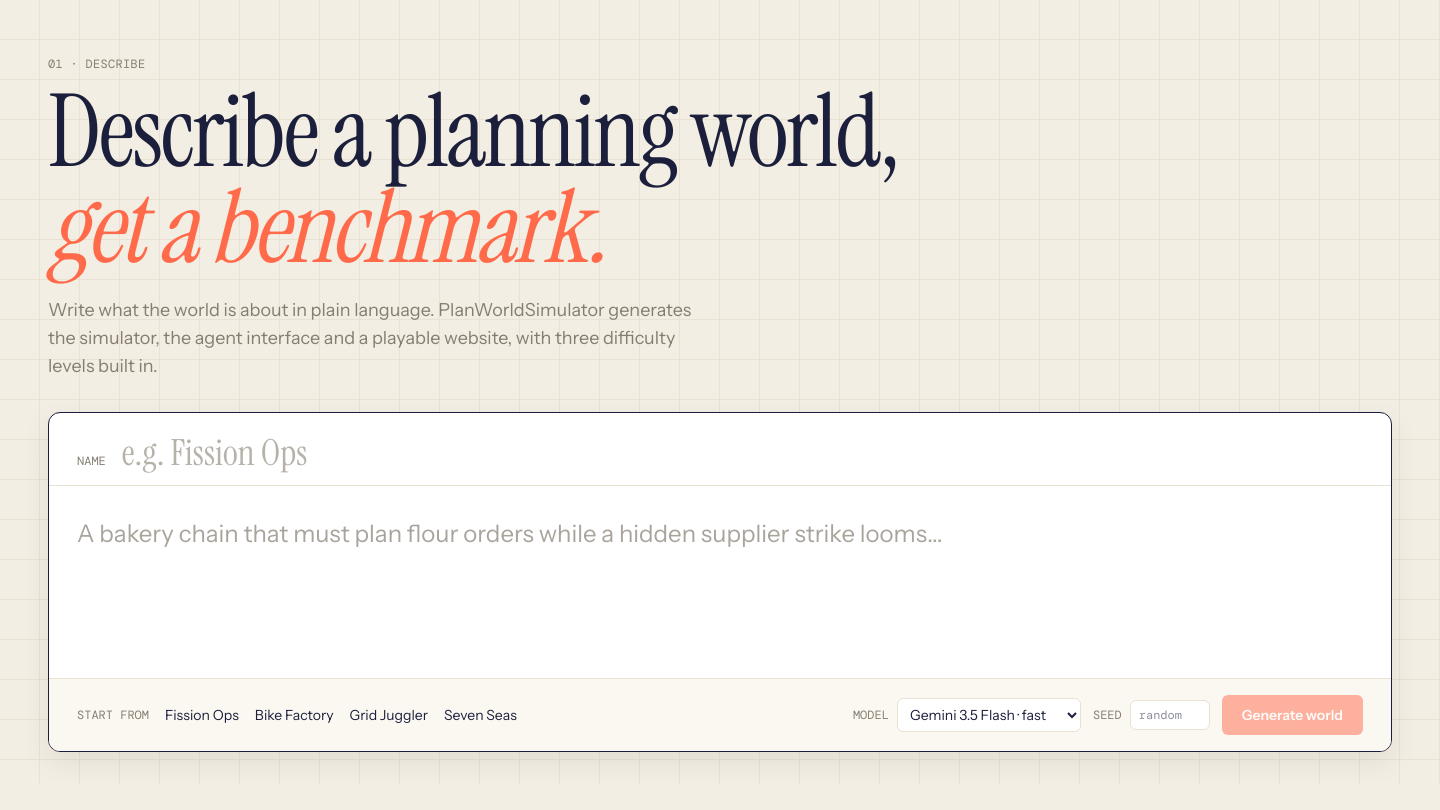
Scenario: a taken name links to the world that has it
Type "Bakery" into the field named "World name" at point(742, 452), box [122,432,1363,472]
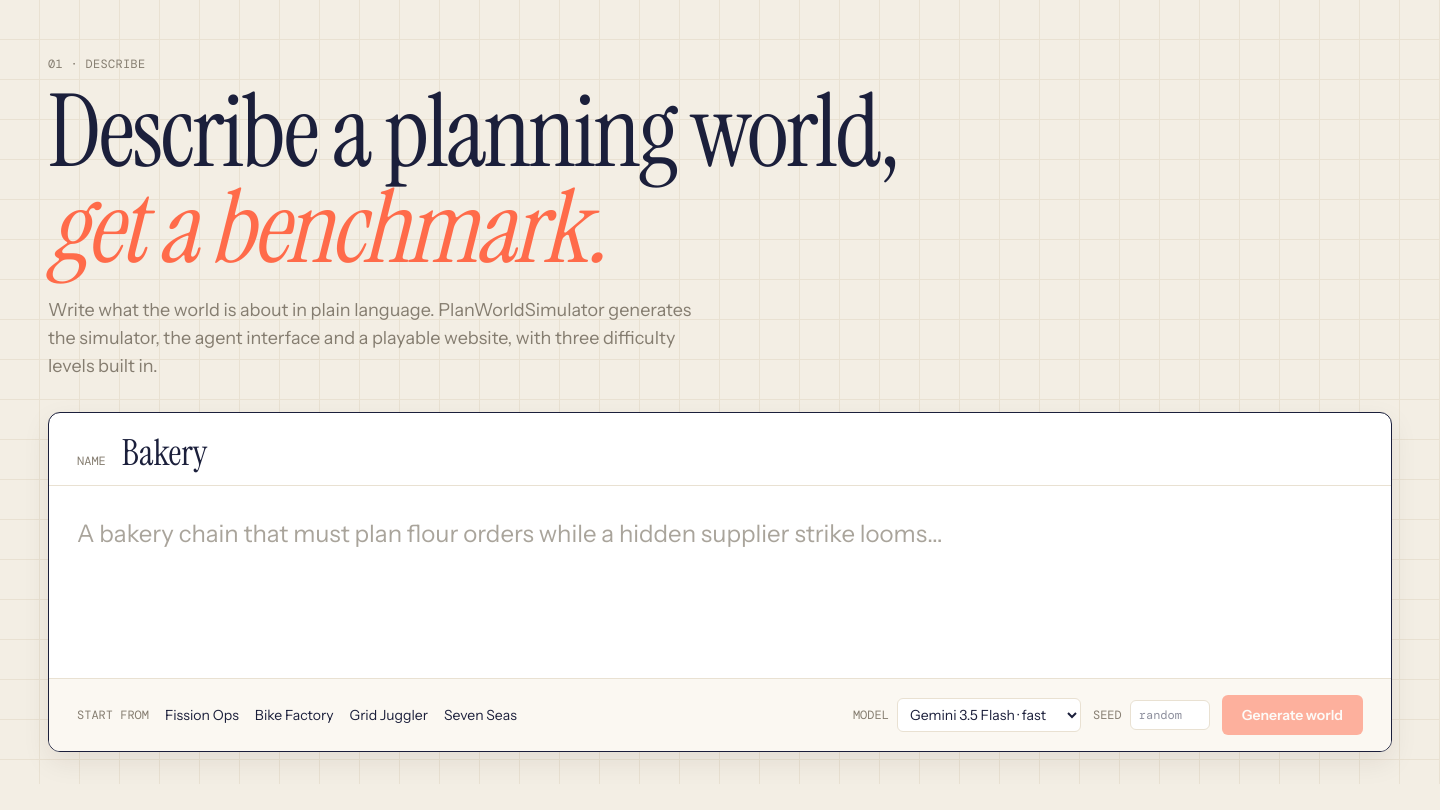
Type "A bakery" into the text box named "describe your benchmark" at point(720, 582), box [49,486,1391,678]
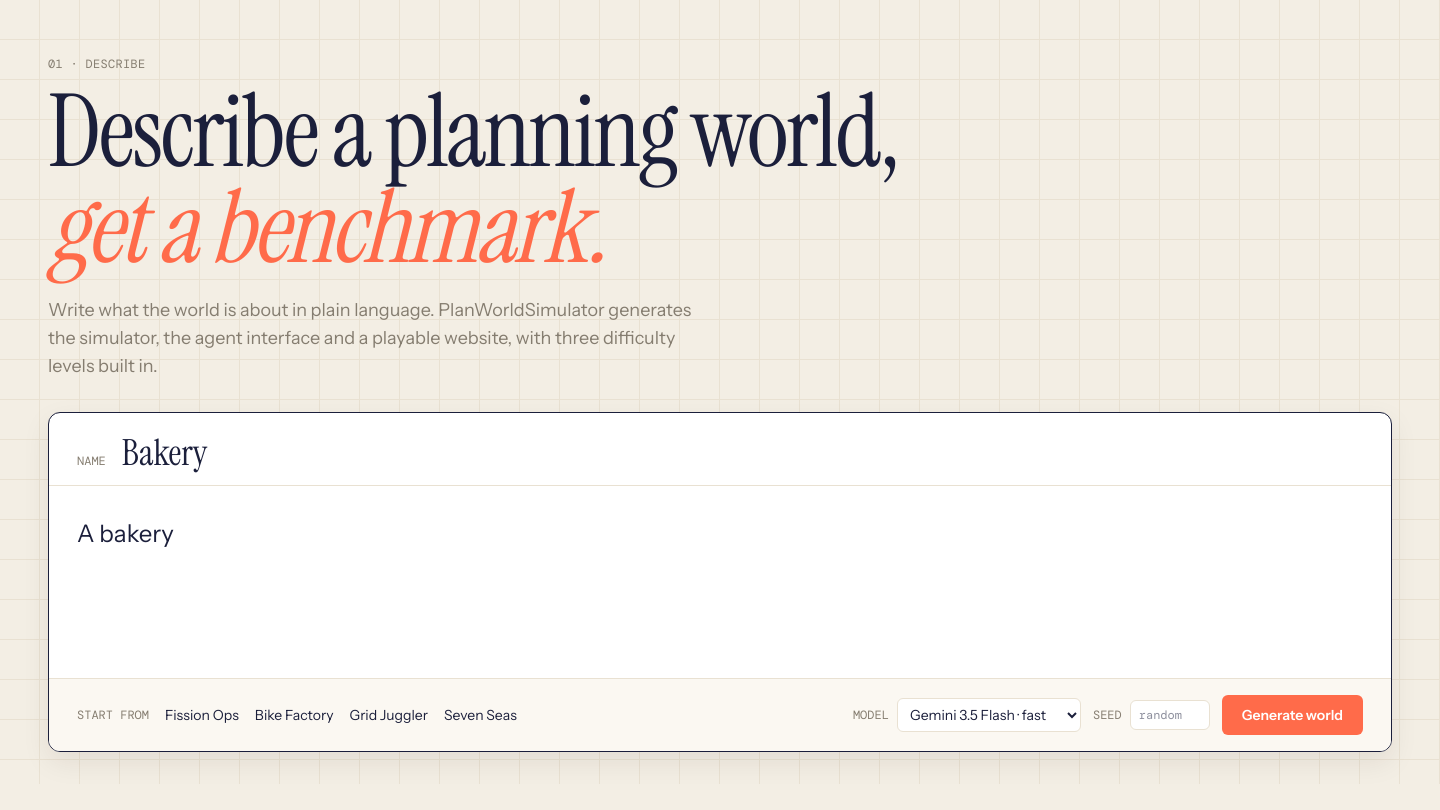
Click the button "Generate world" at point(1292, 714), box [1222,694,1363,734]
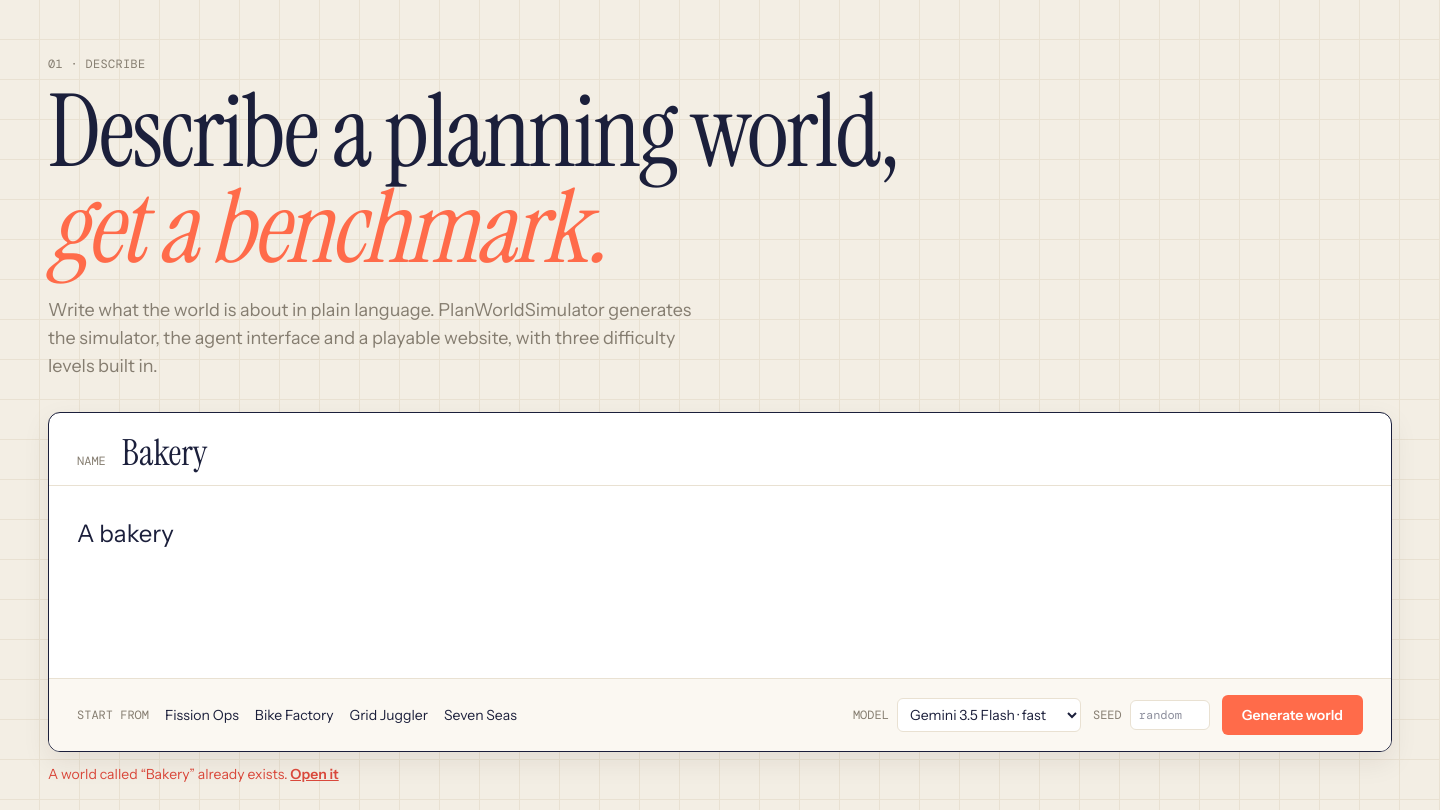
Now the message shows "already exists", box [48,764,288,782]
